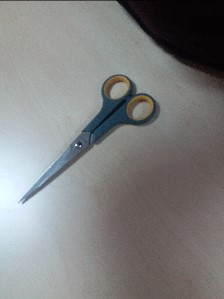scissors: (22, 73, 163, 206)
